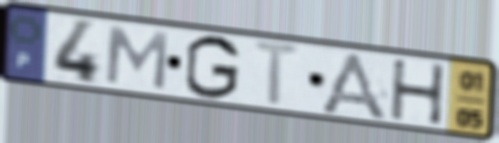4: (51, 18, 105, 85)
A: (314, 50, 392, 124)
G: (183, 33, 243, 102)
H: (389, 58, 448, 128)
M: (102, 23, 171, 93)
T: (250, 38, 306, 109)
